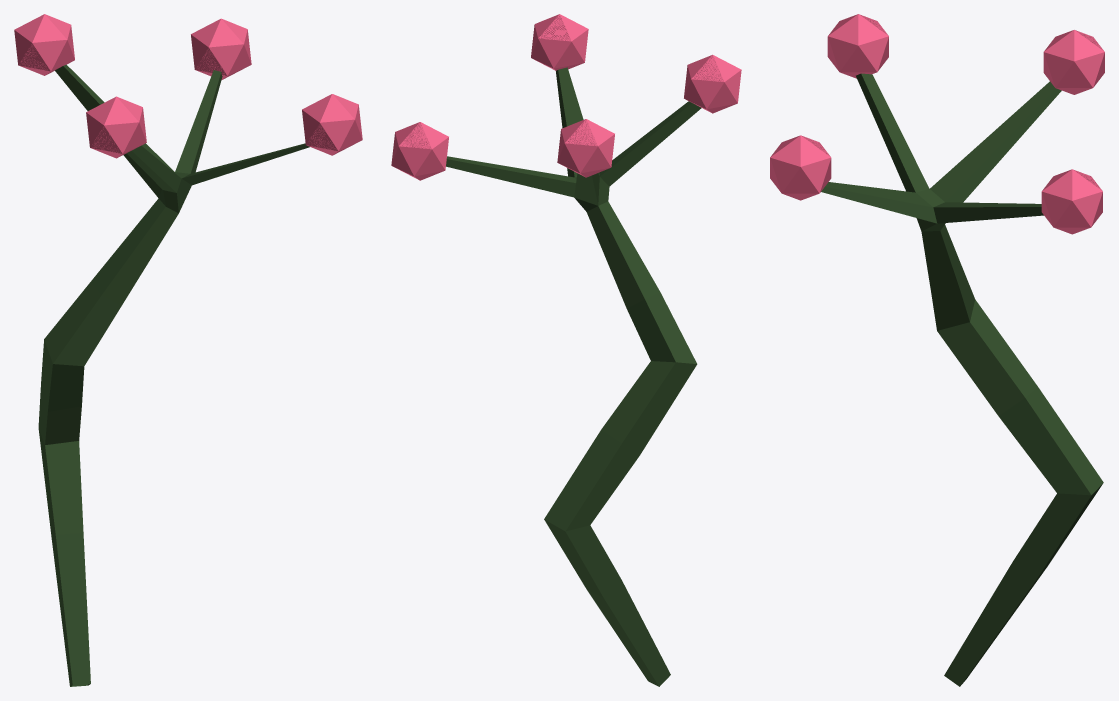
The model's file is Plant1.fbx.
3 views of the same model, side by side, from view 1: azimuth 30°, elevation 25°; view 2: azimuth 150°, elevation 25°; view 3: azimuth 270°, elevation 25° (orthographic). The views are drawn at different scales.
Parts seen in each view (by area): view 1: Plant; view 2: Plant; view 3: Plant.
Part boxes in pixels (x1=…): Plant: x1=14, y1=14, x2=362, y2=686; Plant: x1=391, y1=14, x2=741, y2=686; Plant: x1=770, y1=14, x2=1104, y2=686.
Size of the model in its own units: 57.53 by 133 by 61.09.
1 material, 1 textured.
